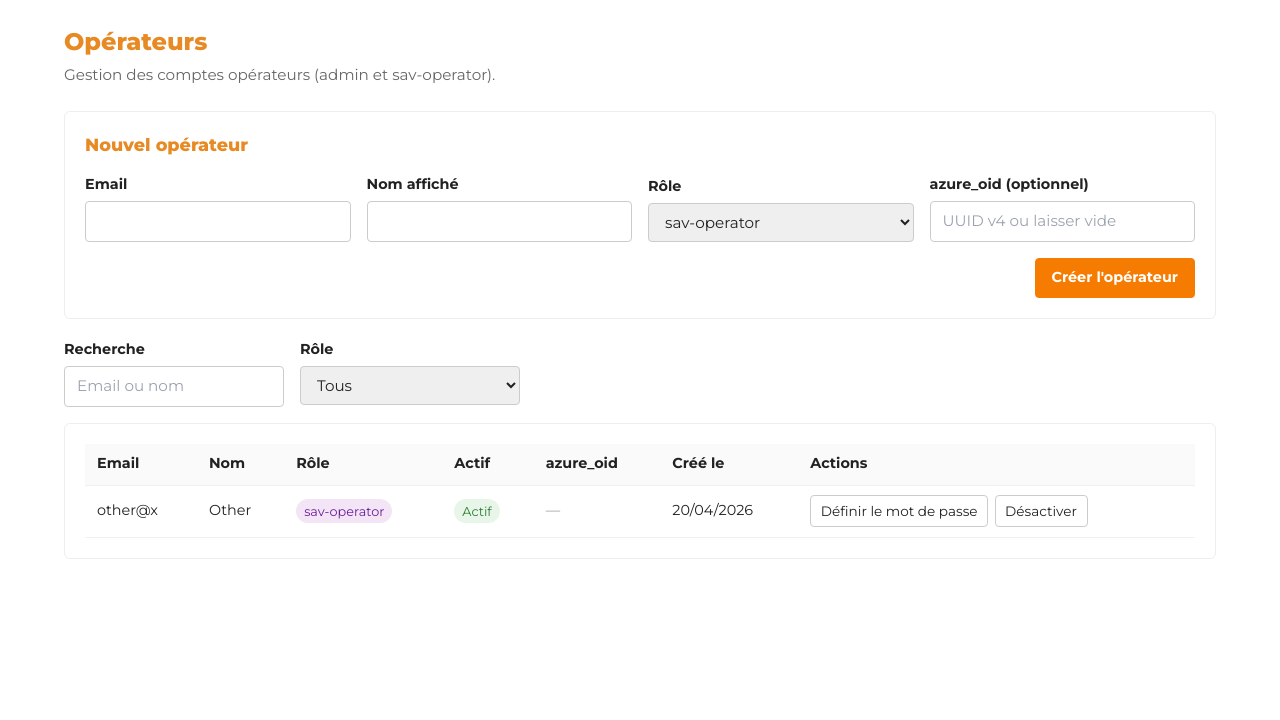
Scenario: OperatorsAdminView (UI smoke) › timeout interrompt la requête, vide les secrets et affiche une erreur neutre
The width and height of the screenshot is (1280, 720).
Click the button with test id "operator-password-12" at (899, 511), box top-left (810, 495), bottom-right (988, 527)
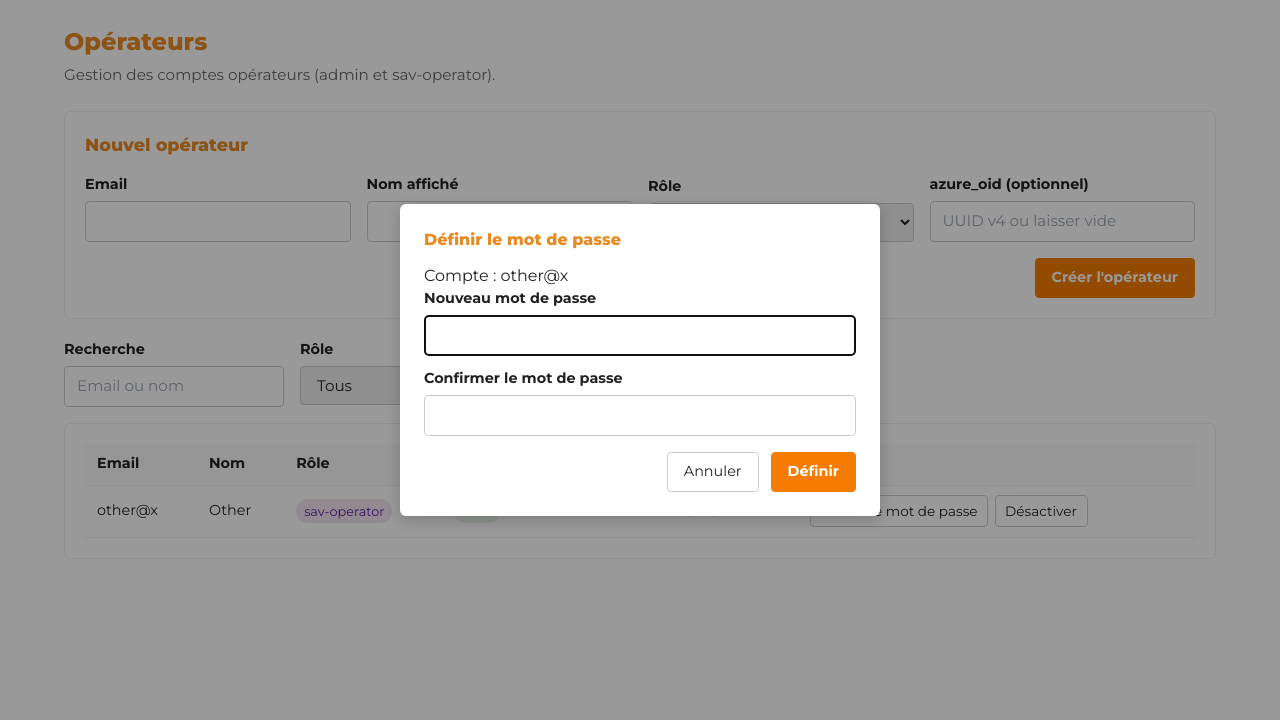
Type "long-password" into the password field with test id "operator-password-input" at (640, 336), box top-left (424, 315), bottom-right (856, 356)
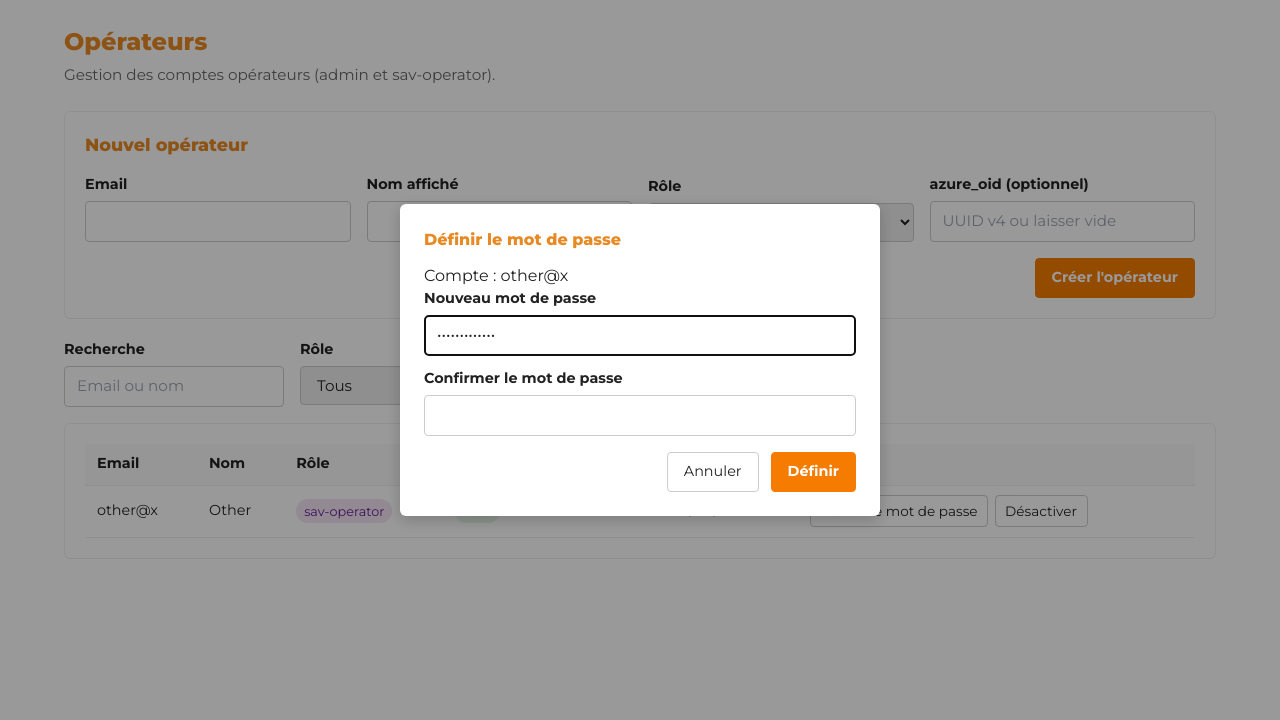
Type "long-password" into the password field with test id "operator-password-confirmation" at (640, 416), box top-left (424, 395), bottom-right (856, 436)
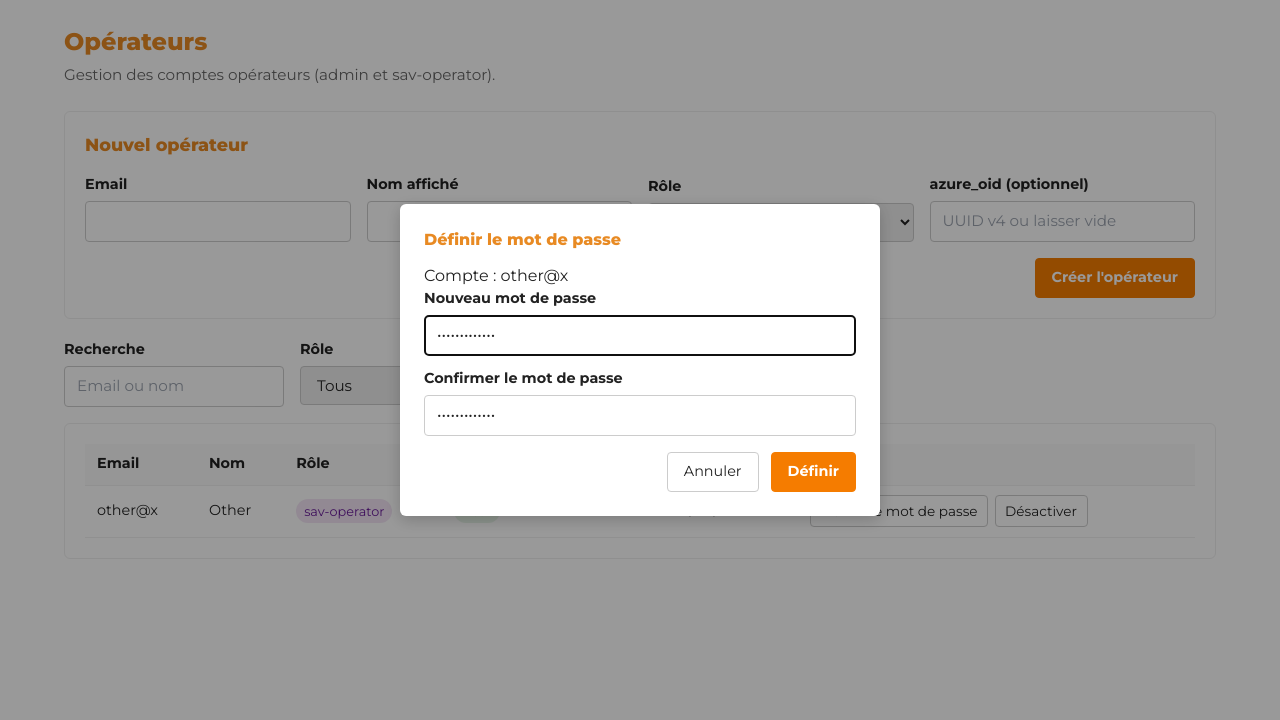
Submit the form from the button with test id "operator-password-submit", box top-left (771, 452), bottom-right (856, 492)
Wait 15000 ms
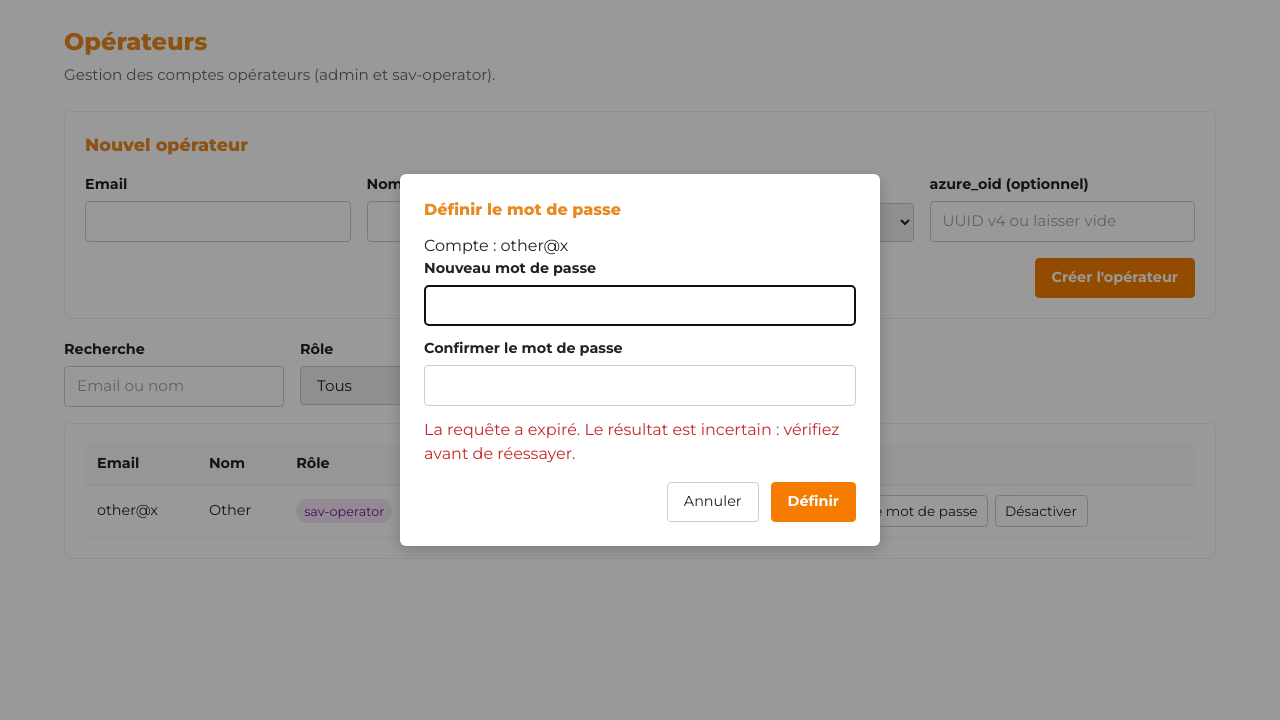
Result: the message "La requête a expiré. Le résultat est incertain : vérifiez avant de réessayer." is shown at top-left (424, 418), bottom-right (856, 466)
Result: the password field with test id "operator-password-input" is empty at top-left (424, 285), bottom-right (856, 326)
